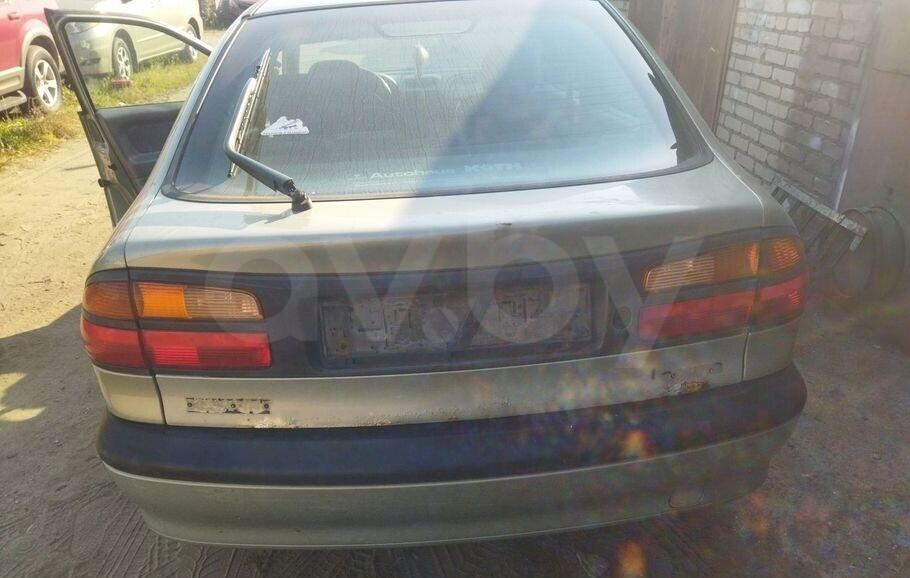Laguna_1998-2001: (47, 0, 820, 555)
